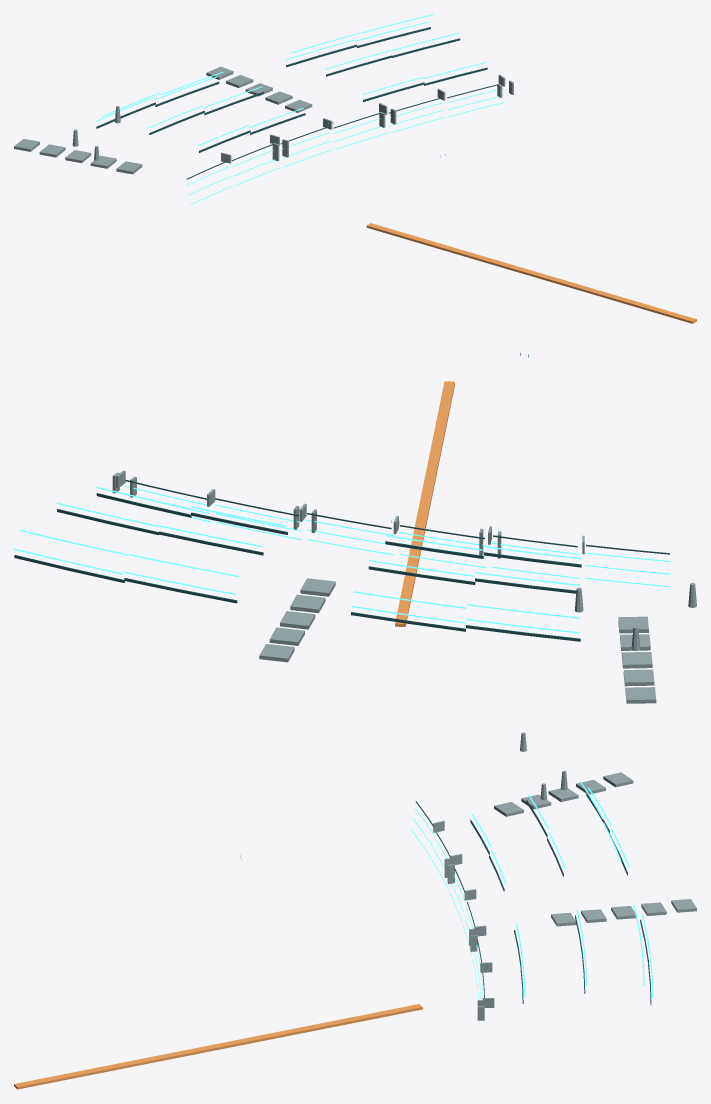
The model's file is Weather_Lung_Sector_03_Dressing.glb.
3 renders of one model, top to bottom at view 1: azimuth 30°, elevation 25°; view 2: azimuth 150°, elevation 25°; view 3: azimuth 270°, elevation 25°, orthographic. The views are drawn at different scales.
Visible parts, largest first — view 1: Weather_Lung_Sector_03_Dressing; view 2: Weather_Lung_Sector_03_Dressing; view 3: Weather_Lung_Sector_03_Dressing.
Boxes of the visible parts, x1,y1,x2,y2 form: Weather_Lung_Sector_03_Dressing: (14, 14, 696, 323); Weather_Lung_Sector_03_Dressing: (14, 352, 696, 703); Weather_Lung_Sector_03_Dressing: (14, 732, 696, 1089).
Bounding box in the file's own units: 6157 × 1780 × 7422.
